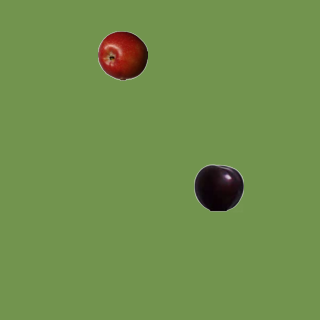Apple Braeburn: (97, 30, 147, 80)
Cherry Wax Black: (193, 162, 243, 212)
